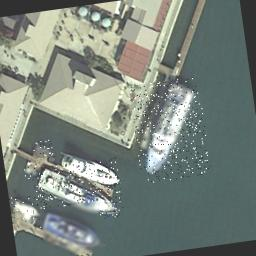boat: (140, 80, 199, 183), (35, 166, 123, 218), (43, 208, 103, 251), (10, 196, 42, 219), (32, 140, 52, 156), (26, 165, 38, 178)
